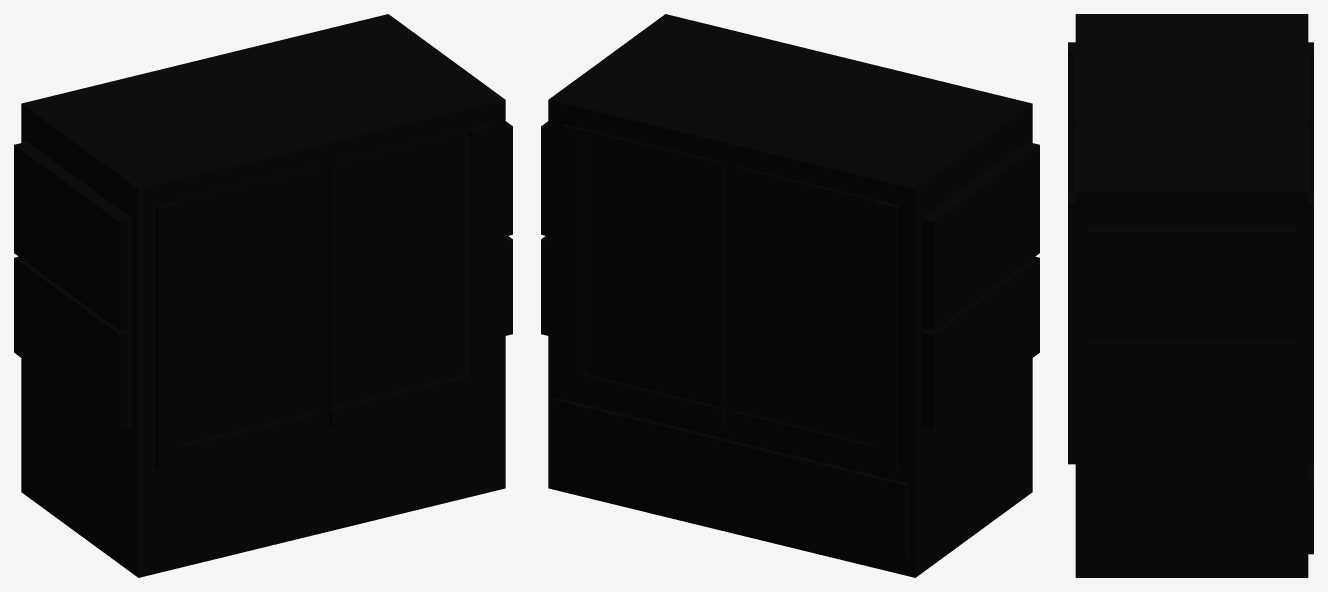
File: xuantie_leggings.obj
The picture shows the model from 3 angles, left to right: view 1: azimuth 30°, elevation 25°; view 2: azimuth 150°, elevation 25°; view 3: azimuth 270°, elevation 25°; orthographic projection.
Visible parts, largest first — view 1: geometry; view 2: geometry; view 3: geometry.
Boxes of the visible parts, bbox=[...] form: geometry: bbox=[14, 14, 512, 577]; geometry: bbox=[541, 14, 1039, 577]; geometry: bbox=[1068, 14, 1313, 577].
Size of the model in its own units: 0.5688 by 0.5375 by 0.31.
